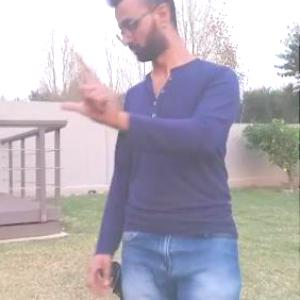land_hand: (60, 49, 126, 119)
